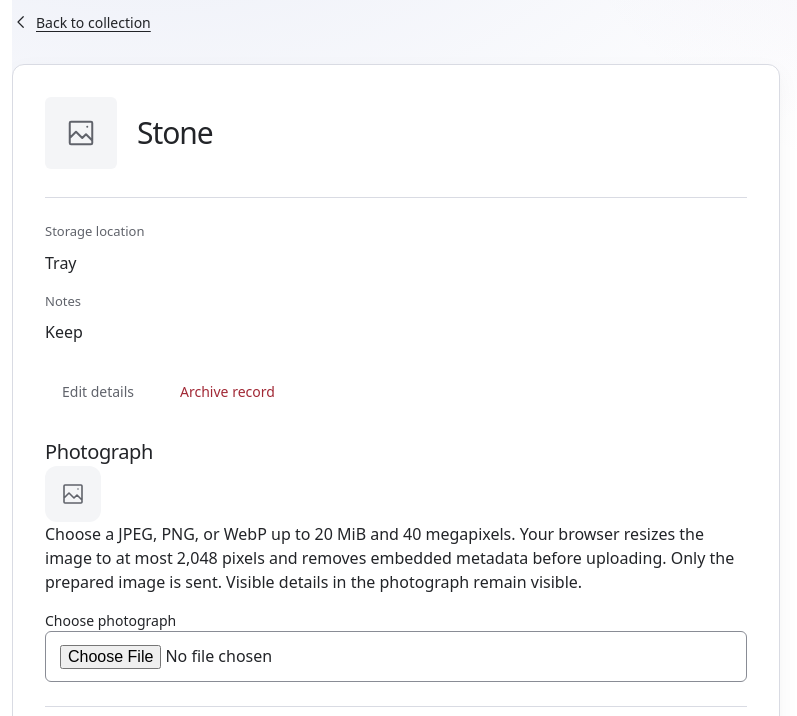
Scenario: shows an already archived conflict as current saved state without claiming request success
Click the button "Archive record" at coordinates (227, 392), box [163,370,292,414]
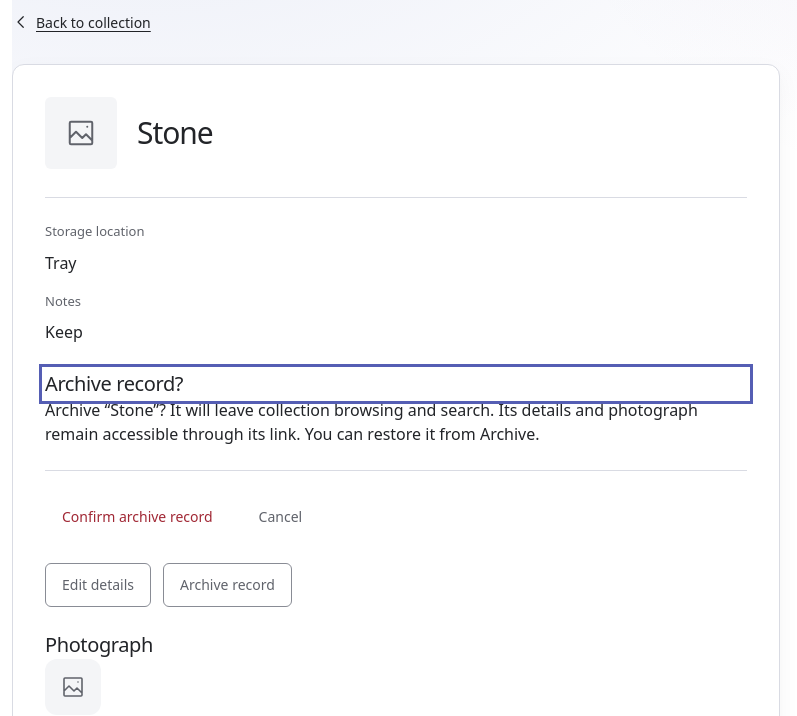
// WHEN a conflict is recovered THEN show the saved archived state without attribution.
Click the button "Confirm archive record" at coordinates (137, 517), box [45,495,230,539]
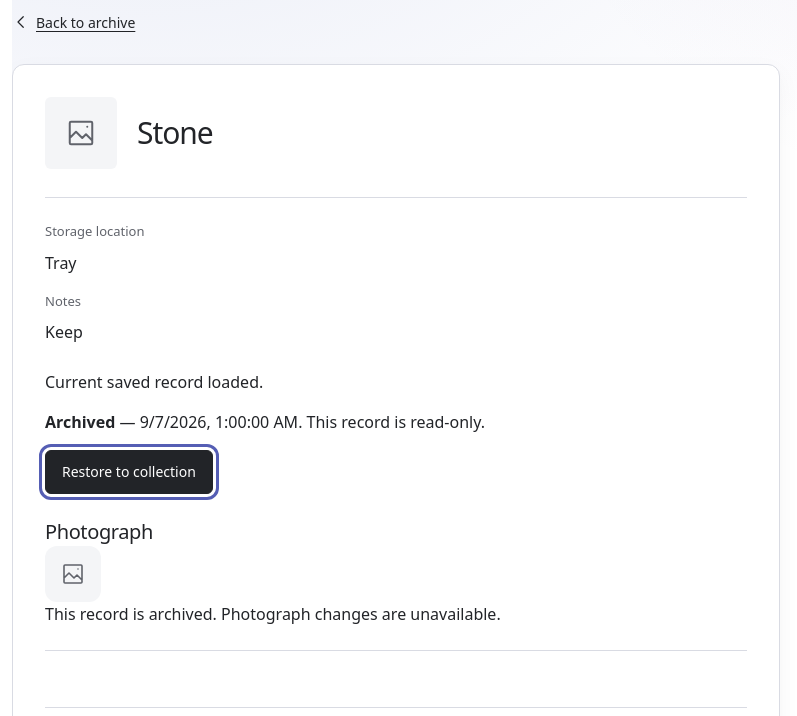
Result: the text "Archived" is shown at [45,411,115,433]
Result: the text "Current saved record loaded." is shown at [45,371,263,393]
Result: the heading "Archive record" is gone
